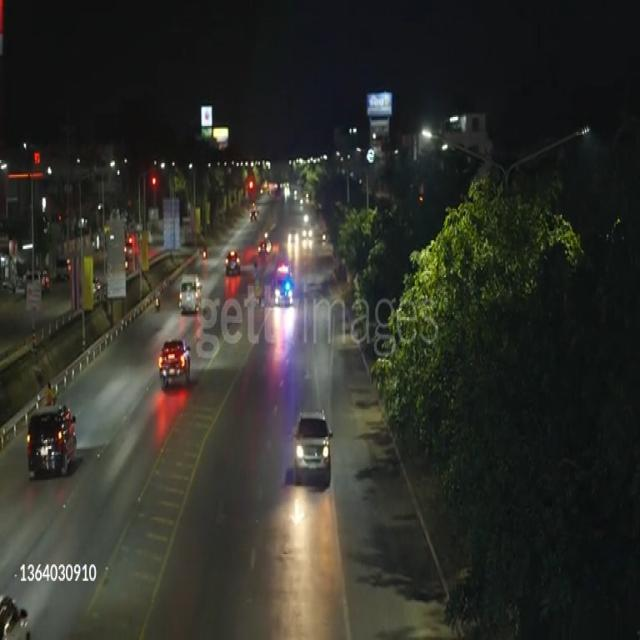emergency: (272, 256, 296, 308)
